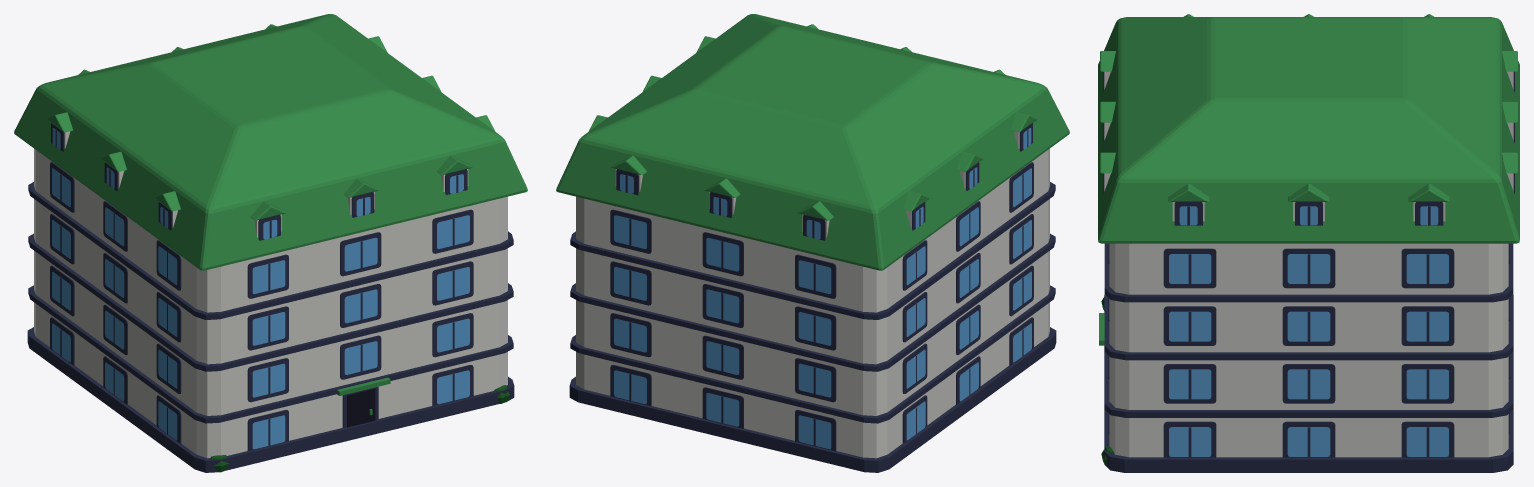
The model's file is house-2x2-4f-mansard-a.glb.
The picture shows the model from 3 angles, left to right: view 1: azimuth 30°, elevation 25°; view 2: azimuth 150°, elevation 25°; view 3: azimuth 270°, elevation 25°; orthographic projection. The views are drawn at different scales.
Visible parts, largest first — view 1: house-2x2-4f-mansard-a; view 2: house-2x2-4f-mansard-a; view 3: house-2x2-4f-mansard-a.
Boxes of the visible parts, x1=… form: house-2x2-4f-mansard-a: x1=14, y1=14, x2=527, y2=472; house-2x2-4f-mansard-a: x1=556, y1=14, x2=1069, y2=472; house-2x2-4f-mansard-a: x1=1098, y1=14, x2=1519, y2=472.
Bounding box in the file's own units: 1.99 × 1.71 × 1.99.
1 material, 1 textured.
